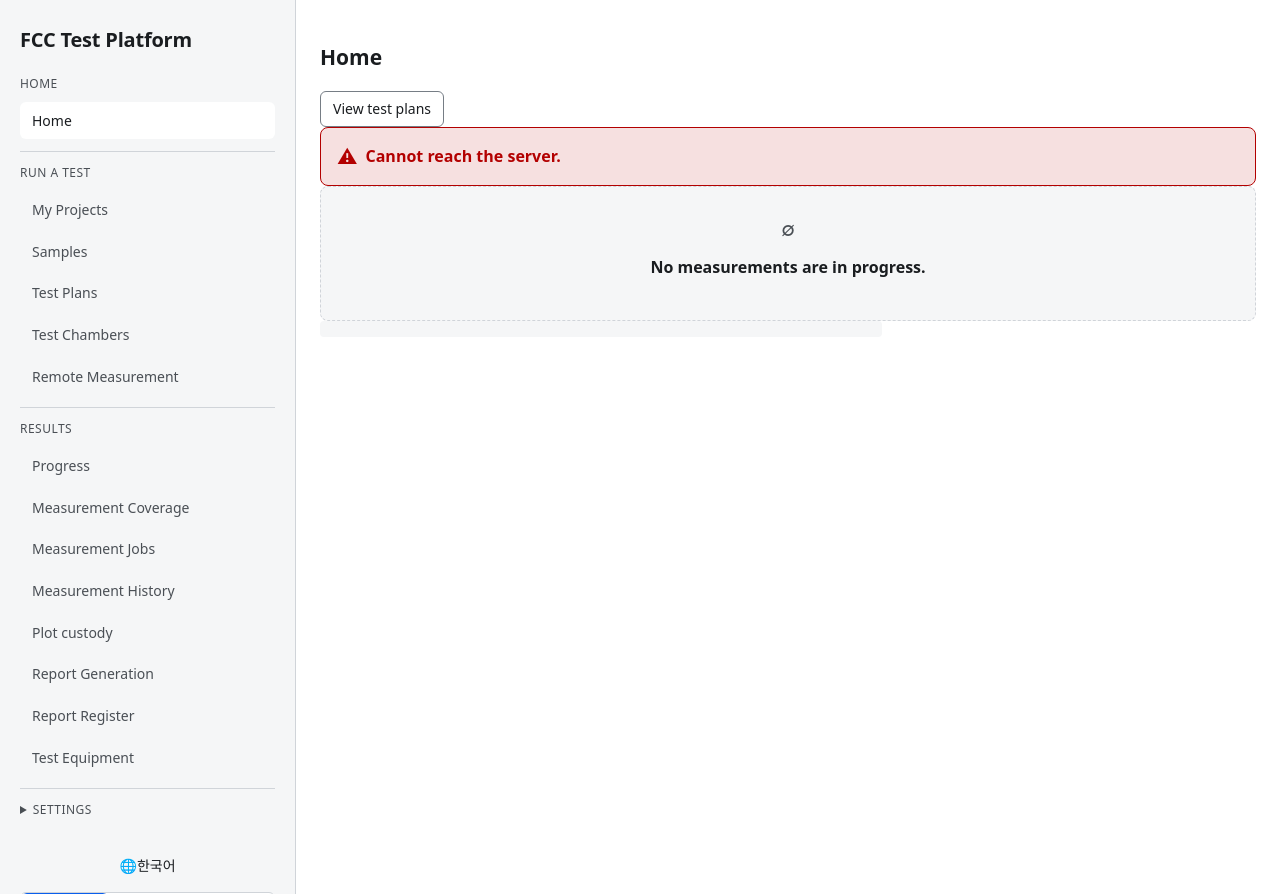
it: document title follows the route (S10) › switches mounted Wave-1 state copy and language parts without reload
Expected: the heading with test id "live-wave1-heading" reads "Home", x1=320 y1=43 x2=382 y2=71
Expected: the button with test id "live-wave1-action" reads "View test plans", x1=320 y1=91 x2=444 y2=127
Click the button with test id "locale-toggle": (148,866) x1=20 y1=848 x2=275 y2=884
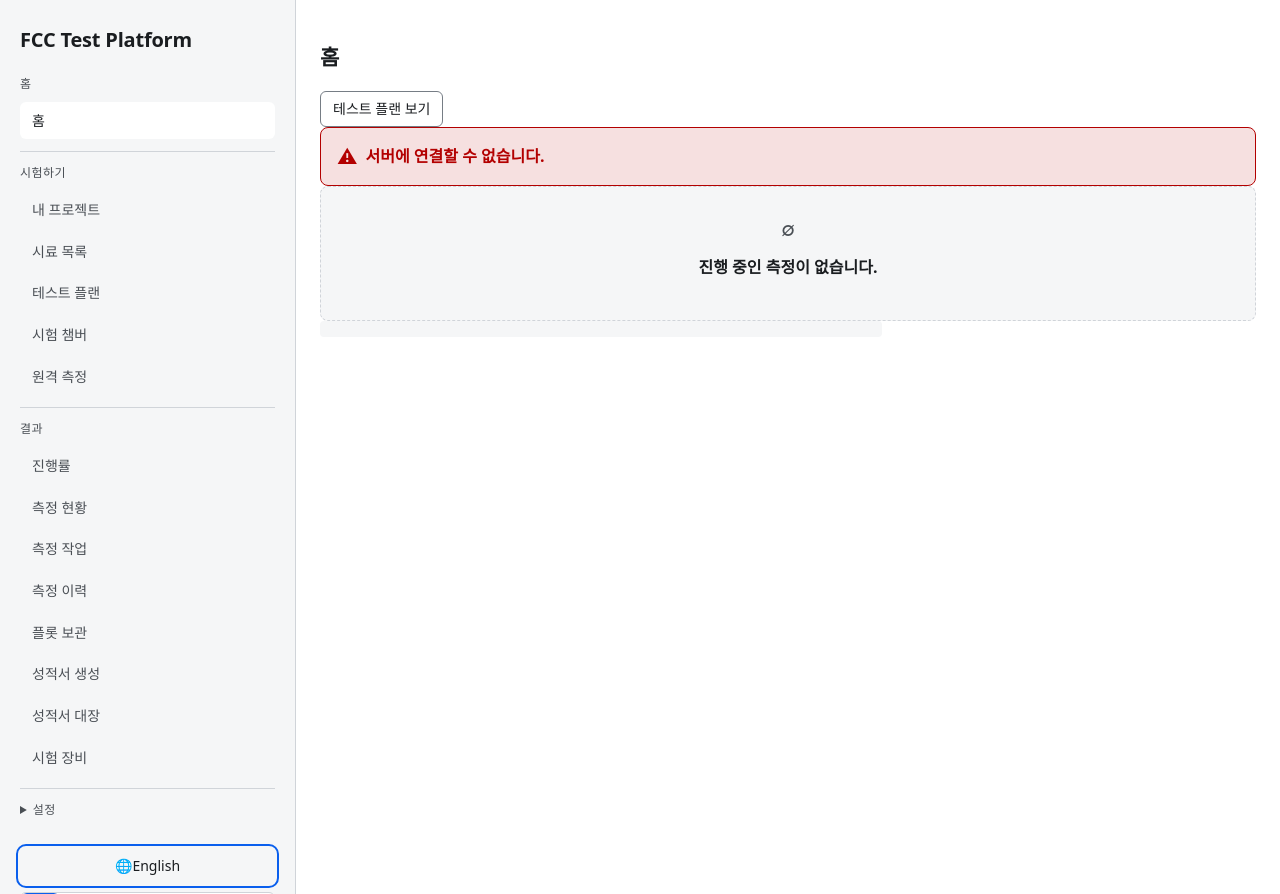
Expected: the button with test id "live-wave1-action" reads "테스트 플랜 보기", x1=320 y1=91 x2=444 y2=127
Expected: the message with test id "live-wave1-empty" reads "진행 중인 측정이 없습니다.", x1=698 y1=256 x2=878 y2=278
